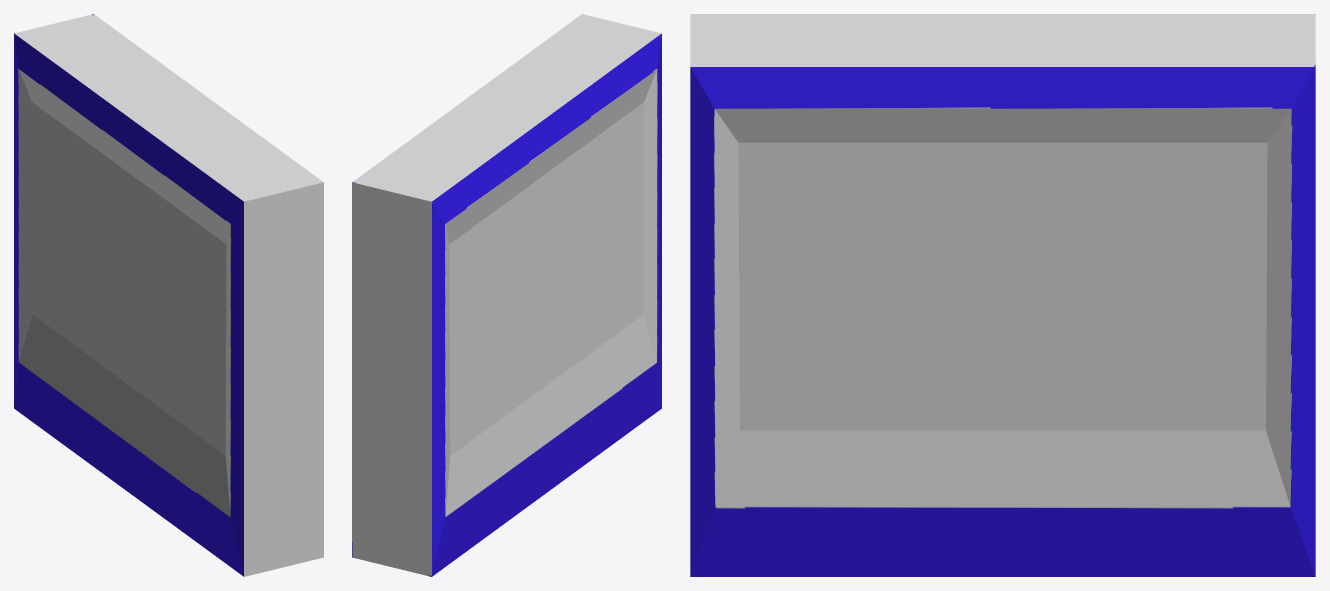
The model's file is Wall.fbx.
3 renders of one model, left to right at view 1: azimuth 30°, elevation 25°; view 2: azimuth 150°, elevation 25°; view 3: azimuth 270°, elevation 25°, orthographic. The views are drawn at different scales.
Visible parts, largest first — view 1: NormalWall; view 2: NormalWall; view 3: NormalWall.
Part boxes in pixels (bbox=[...]): NormalWall: bbox=[14, 14, 323, 576]; NormalWall: bbox=[352, 14, 661, 576]; NormalWall: bbox=[690, 14, 1315, 576].
Size of the model in its own units: 225 by 900 by 1000.
